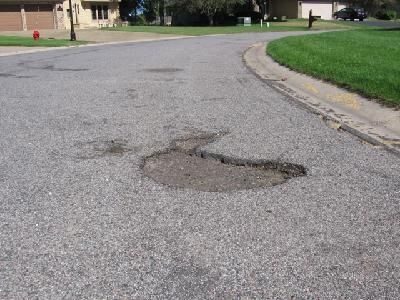pothole: (137, 145, 309, 192), (171, 130, 223, 149), (107, 143, 131, 156)
